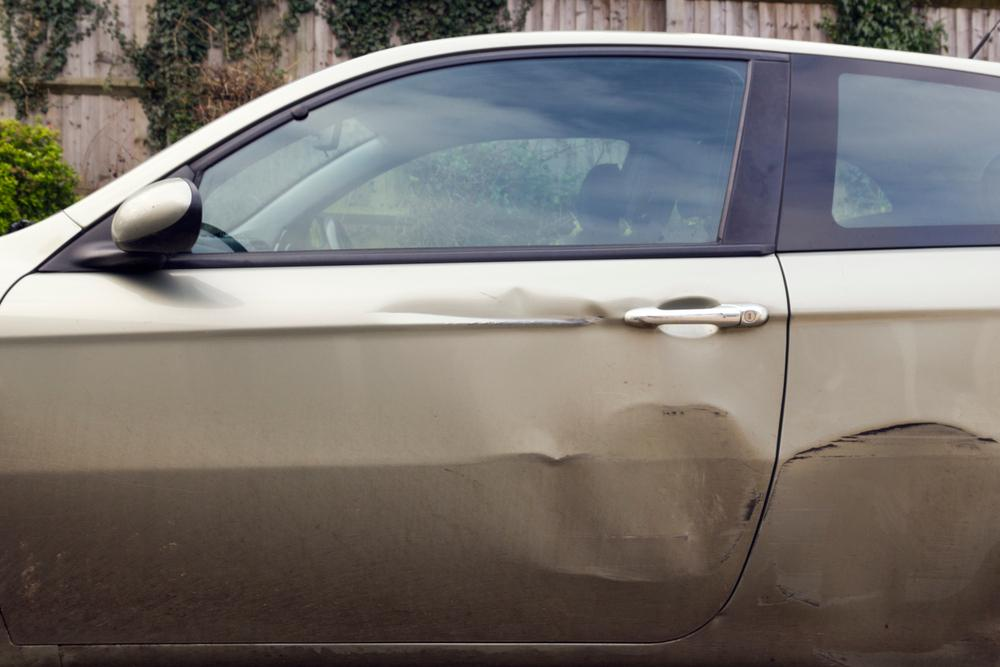dent: (472, 386, 754, 576), (377, 291, 646, 323)
scratch: (768, 424, 1000, 607)
